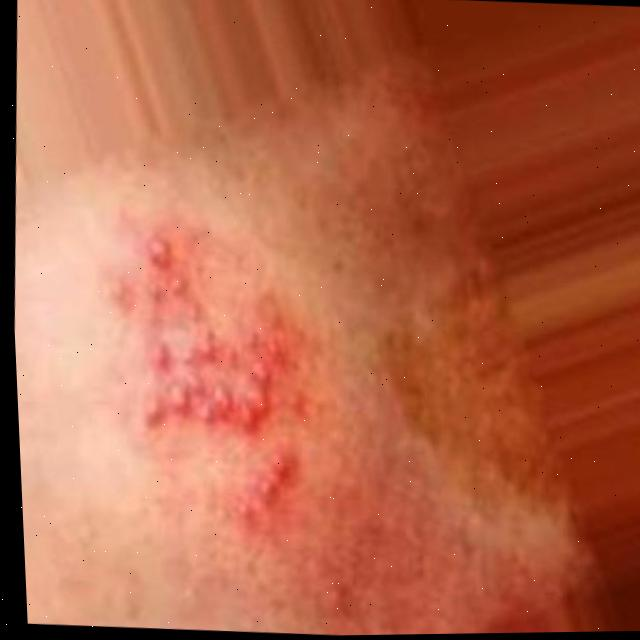Shingles: (94, 247, 317, 526)
